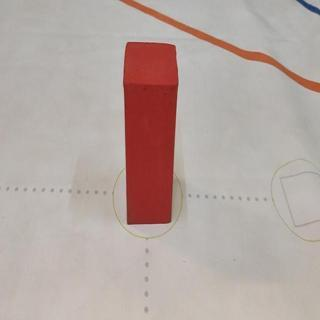redbox: (124, 43, 175, 225)
